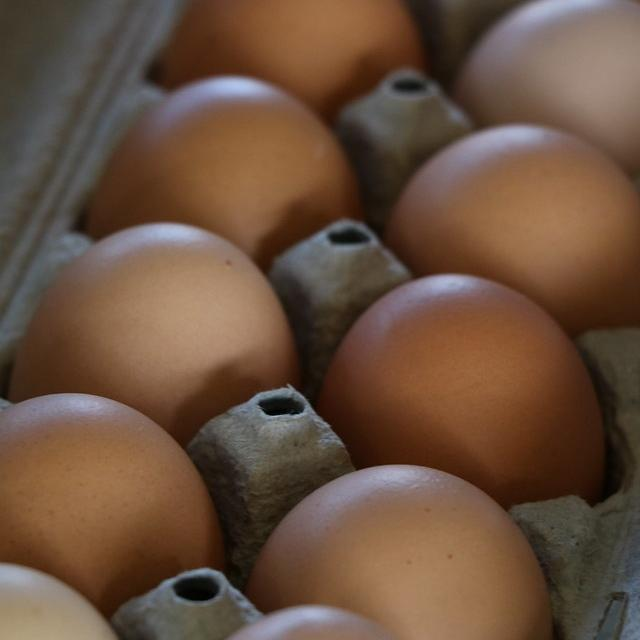egg: (316, 272, 606, 508), (6, 220, 300, 446), (83, 72, 363, 268), (245, 462, 553, 640), (384, 120, 640, 332), (0, 390, 225, 616), (453, 0, 640, 173), (152, 0, 426, 118), (0, 560, 129, 640), (202, 602, 421, 640)
